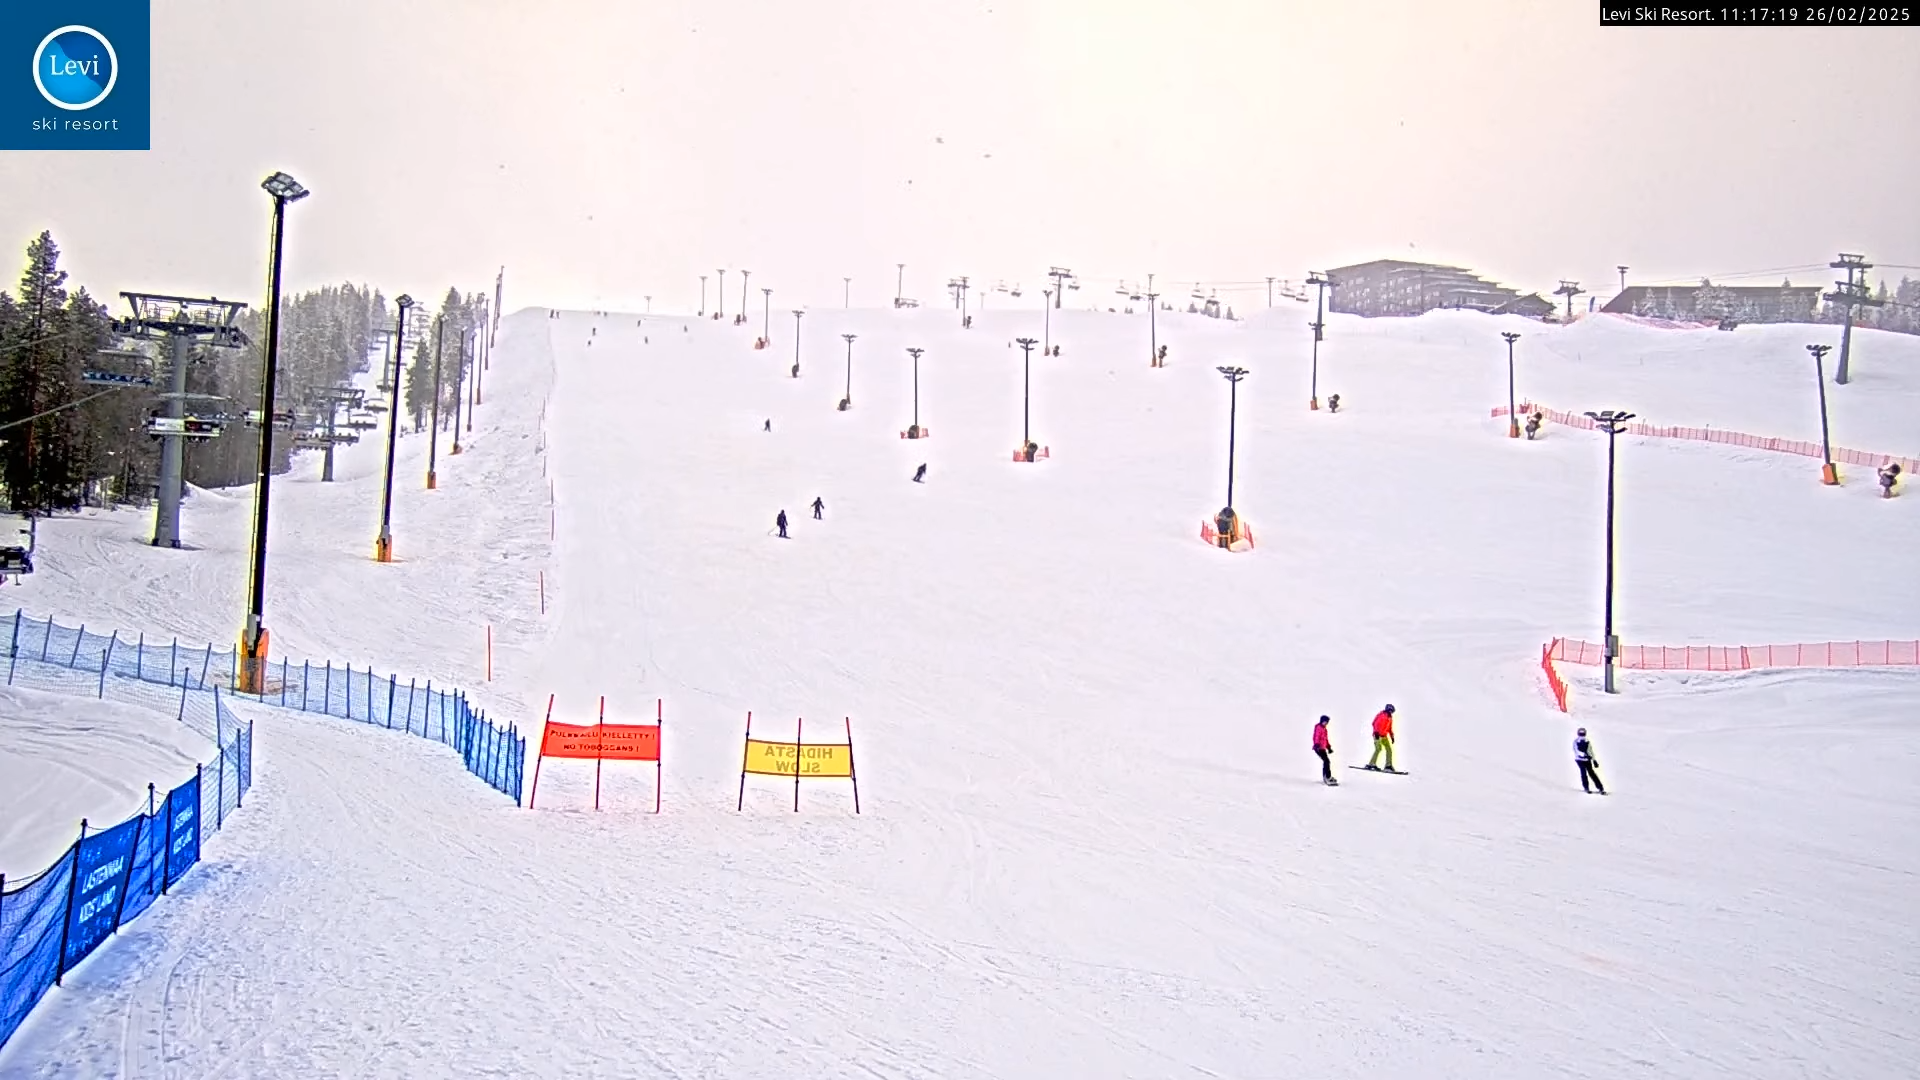skier: (1348, 698, 1416, 774), (1565, 723, 1607, 793)
snowboarder: (1312, 715, 1340, 787)
